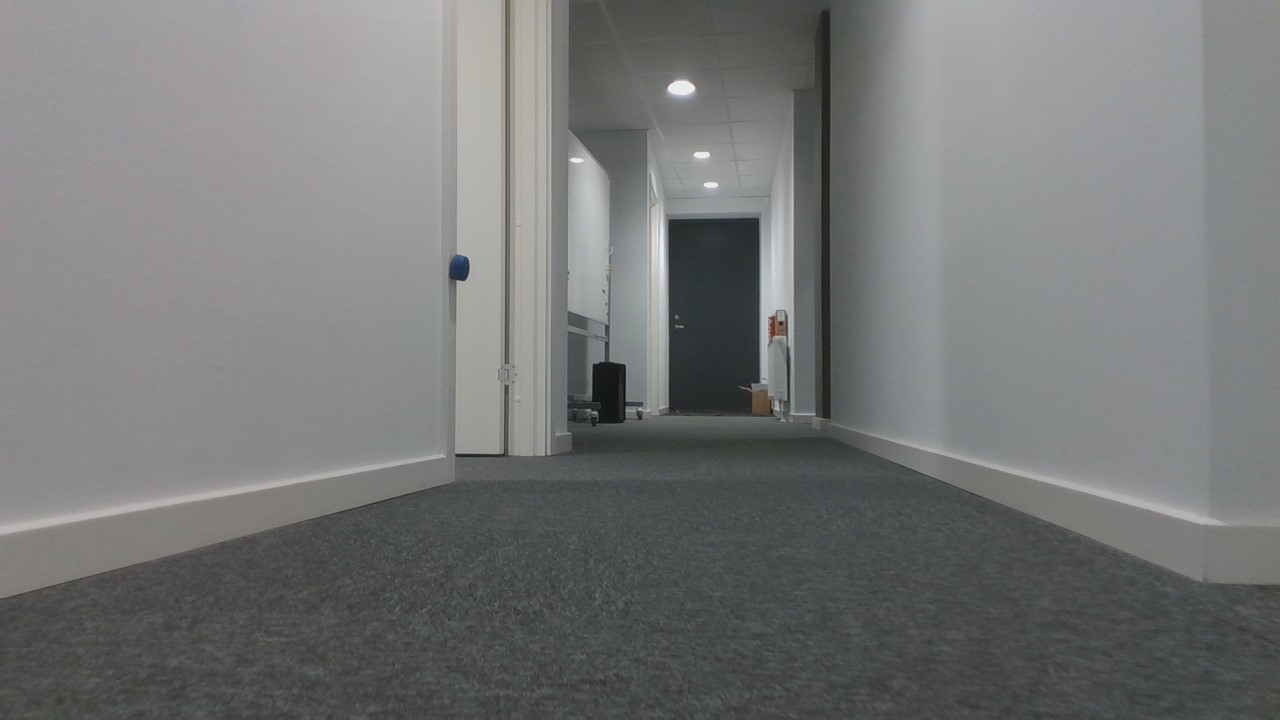alfa: (447, 254, 473, 279)
